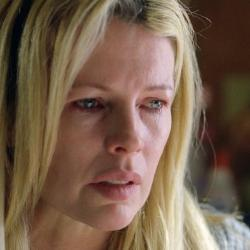face: (3, 5, 212, 229)
